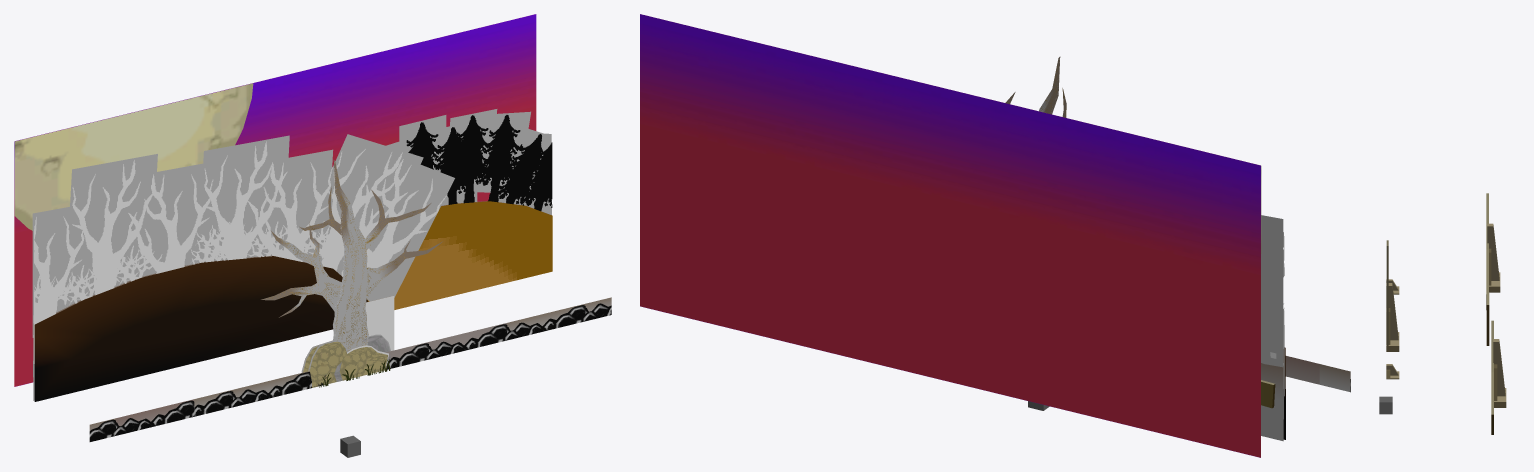
The model's file is stg_04_0.dae.
The picture shows the model from 3 angles, left to right: view 1: azimuth 30°, elevation 25°; view 2: azimuth 150°, elevation 25°; view 3: azimuth 270°, elevation 25°; orthographic projection. The views are drawn at different scales.
Parts seen in each view (by area): view 1: pPlane450_q00157, polySurface972_q00103, pCylinder27_q00156, polySurface963_q00136, polySurface1267_q00029_part1, polySurface959_q00037, polySurface953_q00114, polySurface953_q00113, polySurface953_q00118, polySurface953_q00115, polySurface953_q00116, polySurface953_q00091 (+31 smaller); view 2: pPlane450_q00157, polySurface953_q00112, polySurface959_q00036, polySurface972_q00126; view 3: pCube24_q00082, pCube24_q00079, pCube24_q00027, polySurface1250_q00085, polySurface1253_q00028, polySurface1250_q00086, pCube25_q00000, polySurface1250_q00087, pCube22_q00025.
Part boxes in pixels (x1=…): pPlane450_q00157: x1=14, y1=14, x2=536, y2=386; polySurface972_q00103: x1=34, y1=256, x2=368, y2=401; pCylinder27_q00156: x1=14, y1=83, x2=253, y2=230; polySurface963_q00136: x1=367, y1=201, x2=552, y2=309; polySurface1267_q00029_part1: x1=261, y1=160, x2=442, y2=351; polySurface959_q00037: x1=89, y1=303, x2=611, y2=441; polySurface953_q00114: x1=201, y1=135, x2=289, y2=216; polySurface953_q00113: x1=67, y1=154, x2=157, y2=258; polySurface953_q00118: x1=124, y1=161, x2=213, y2=264; polySurface953_q00115: x1=312, y1=134, x2=423, y2=244; polySurface953_q00116: x1=354, y1=153, x2=454, y2=297; polySurface953_q00091: x1=72, y1=160, x2=155, y2=295; pPlane450_q00157: x1=640, y1=14, x2=1260, y2=457; polySurface953_q00112: x1=1261, y1=215, x2=1283, y2=367; polySurface959_q00036: x1=1285, y1=356, x2=1350, y2=392; polySurface972_q00126: x1=1261, y1=349, x2=1283, y2=441; pCube24_q00082: x1=1493, y1=339, x2=1505, y2=396; pCube24_q00079: x1=1487, y1=223, x2=1499, y2=280; pCube24_q00027: x1=1386, y1=283, x2=1398, y2=340; polySurface1250_q00085: x1=1491, y1=320, x2=1493, y2=434; polySurface1253_q00028: x1=1386, y1=240, x2=1388, y2=345; polySurface1250_q00086: x1=1486, y1=193, x2=1488, y2=309; pCube25_q00000: x1=1379, y1=396, x2=1392, y2=414; polySurface1250_q00087: x1=1486, y1=293, x2=1489, y2=345; pCube22_q00025: x1=1386, y1=332, x2=1399, y2=351.
Size of what is drawn, in the model's own units: 40.04 by 23.5 by 10.5.
